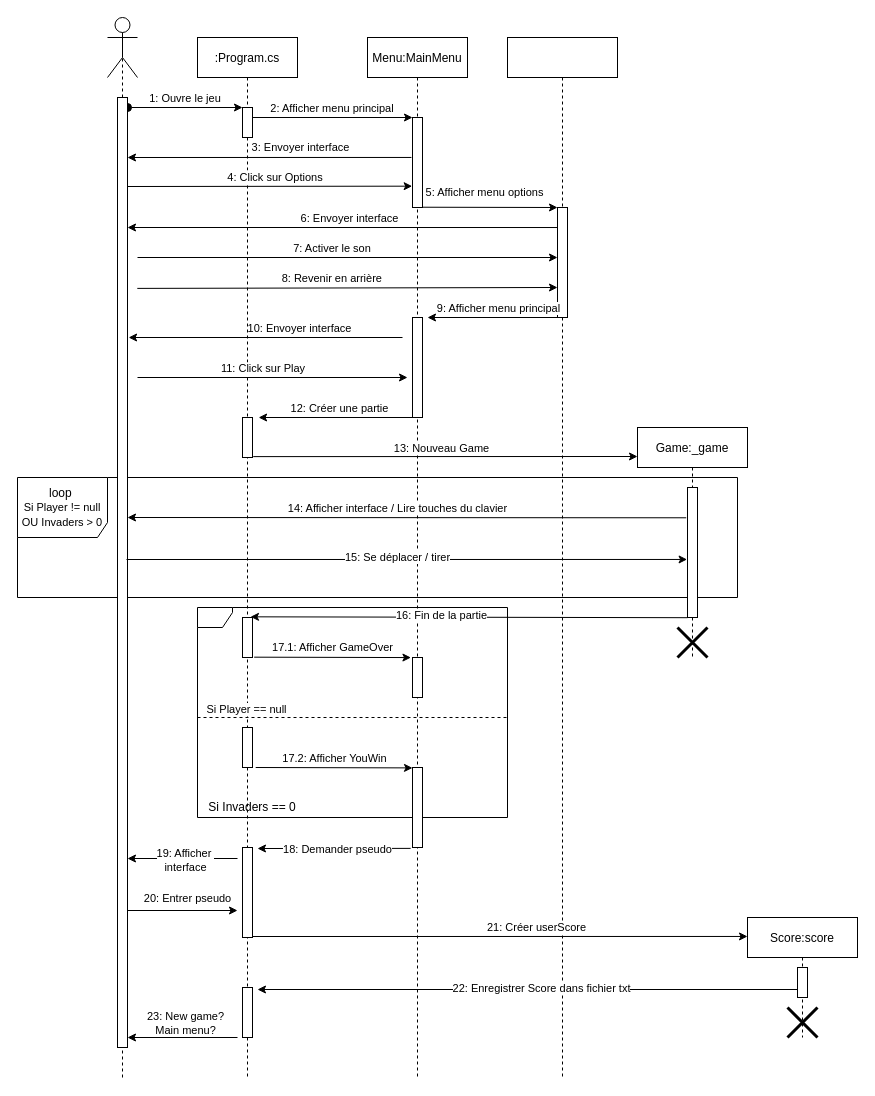
Image size: 875x1096. Some labels were removed from this diagram. Each missing label, with the box of its shape:
alt: (196, 606, 508, 818)
Menu:MenuOptions: (506, 36, 618, 1078)
User: (106, 16, 138, 78)
